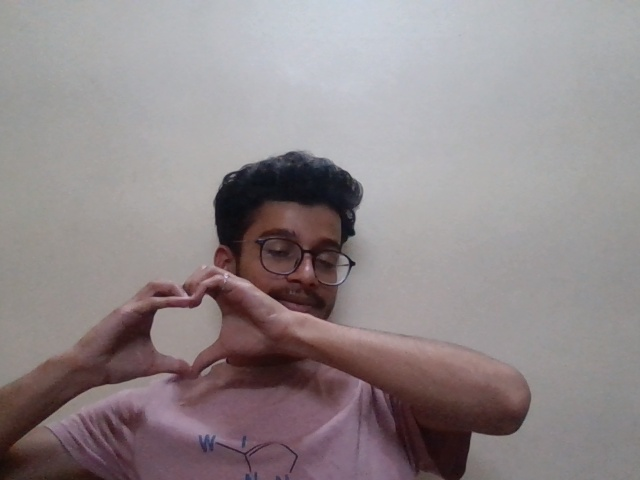silent-voice: (89, 260, 287, 394)
